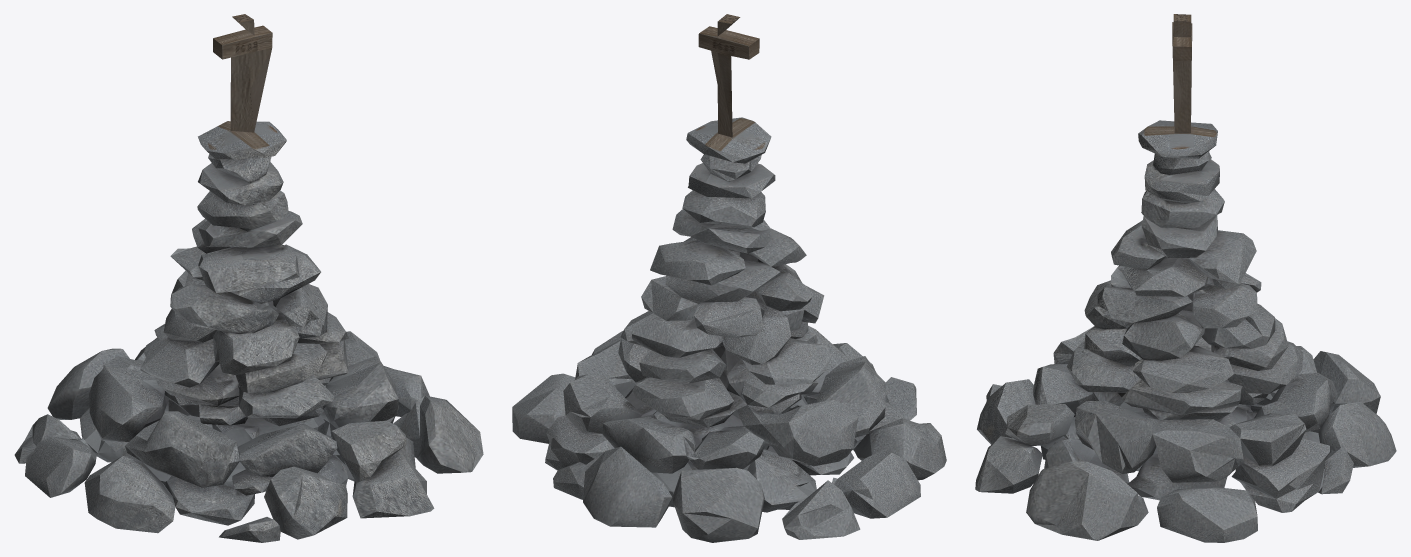
The model's file is lm_summit.glb.
The picture shows the model from 3 angles, left to right: view 1: azimuth 30°, elevation 25°; view 2: azimuth 150°, elevation 25°; view 3: azimuth 270°, elevation 25°; orthographic projection.
Size of the model in its own units: 1.77 by 1.9 by 1.68.
1 material, 1 textured.
